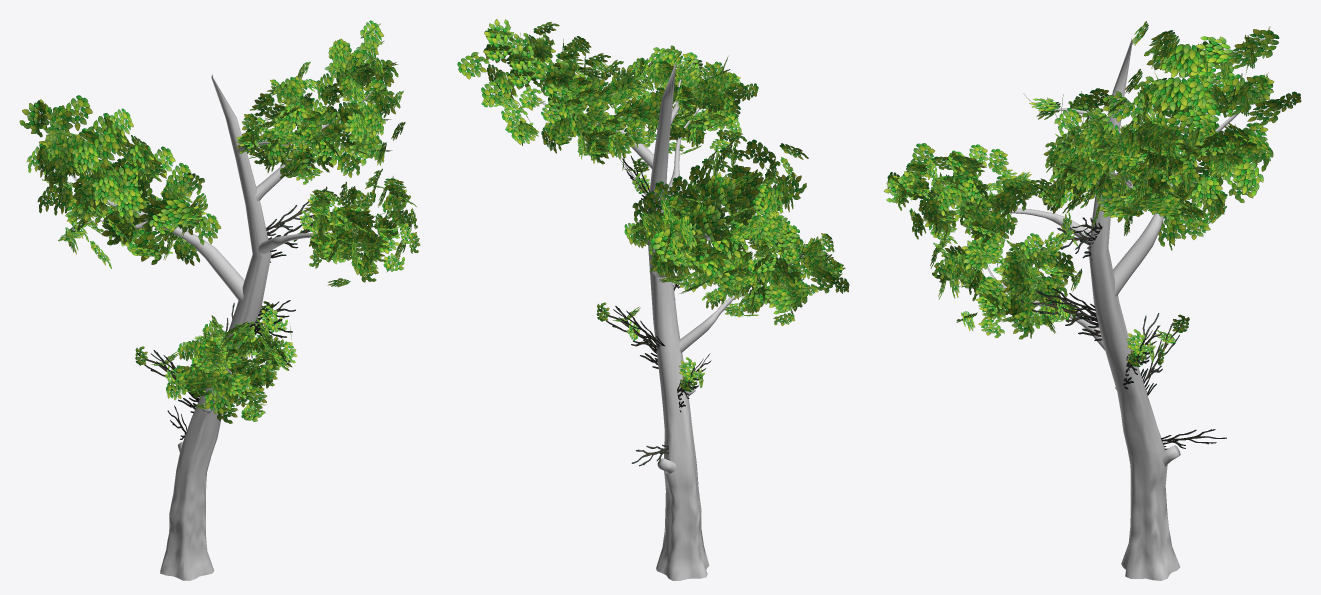
File: tree_basic3.obj
3 views of the same model, side by side, from view 1: azimuth 30°, elevation 25°; view 2: azimuth 150°, elevation 25°; view 3: azimuth 270°, elevation 25° (orthographic). The views are drawn at different scales.
Visible parts, largest first — view 1: Tree_1.042, Tree_1.045, Tree_0.032, Tree_1.043, Tree_1.044, Tree_0.033; view 2: Tree_1.045, Tree_1.042, Tree_0.032, Tree_1.043, Tree_1.044, Tree_0.034, Tree_1.046; view 3: Tree_1.042, Tree_1.045, Tree_0.032, Tree_1.044, Tree_1.043, Tree_0.033, Plane.121, Tree_1.049, Tree_0.036.
Part boxes in pixels (bbox=[...]): Tree_1.042: bbox=[19, 95, 220, 268]; Tree_1.045: bbox=[236, 20, 405, 184]; Tree_0.032: bbox=[160, 73, 271, 580]; Tree_1.043: bbox=[166, 315, 297, 423]; Tree_1.044: bbox=[304, 168, 420, 287]; Tree_0.033: bbox=[55, 143, 244, 300]; Tree_1.045: bbox=[457, 19, 699, 164]; Tree_1.042: bbox=[624, 129, 808, 293]; Tree_0.032: bbox=[647, 62, 709, 580]; Tree_1.043: bbox=[678, 215, 849, 325]; Tree_1.044: bbox=[623, 45, 758, 154]; Tree_0.034: bbox=[679, 252, 800, 352]; Tree_1.046: bbox=[678, 357, 704, 391]; Tree_1.042: bbox=[1103, 21, 1301, 250]; Tree_1.045: bbox=[1029, 88, 1201, 235]; Tree_0.032: bbox=[1088, 37, 1180, 580]; Tree_1.044: bbox=[883, 143, 1043, 260]; Tree_1.043: bbox=[930, 217, 1082, 339]; Tree_0.033: bbox=[1113, 87, 1257, 296]; Plane.121: bbox=[1020, 290, 1101, 340]; Tree_1.049: bbox=[1126, 329, 1155, 366]; Tree_0.036: bbox=[942, 182, 1090, 241].
Bounding box in the file's own units: 11.23 × 15.52 × 10.92.
